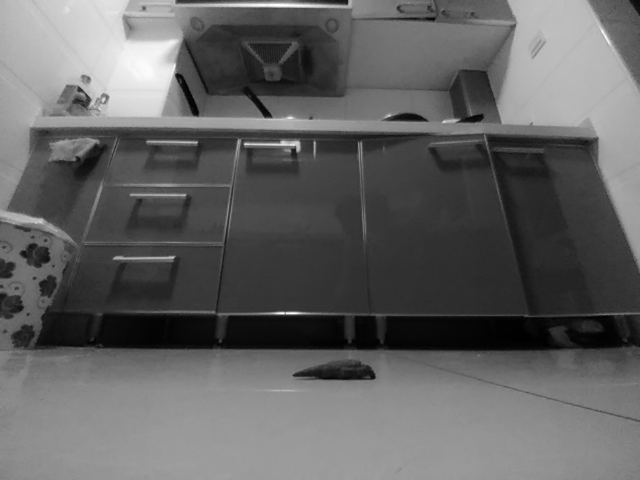pet feces: (292, 358, 377, 382)
